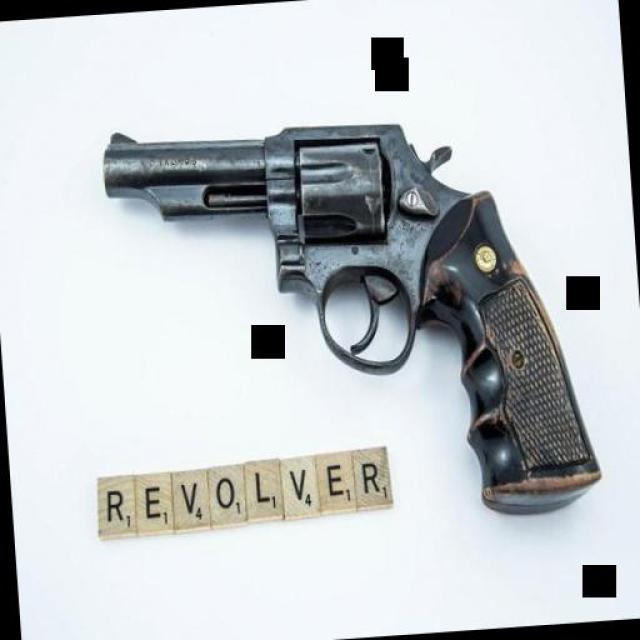gun: (90, 85, 606, 547)
